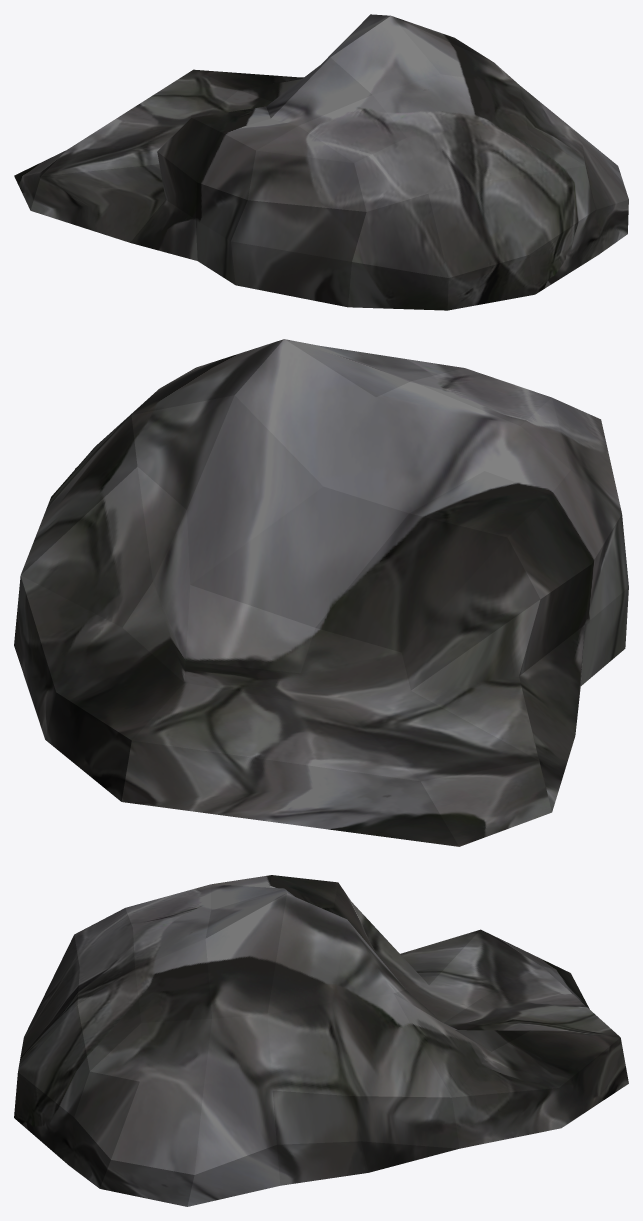
File: fanasty_mod_med_stone.fbx
The picture shows the model from 3 angles, top to bottom: view 1: azimuth 30°, elevation 25°; view 2: azimuth 150°, elevation 25°; view 3: azimuth 270°, elevation 25°; orthographic projection. The views are drawn at different scales.
Visible parts, largest first — view 1: med_stone; view 2: med_stone; view 3: med_stone.
Part boxes in pixels (left/top/right/bottom): med_stone: left=14, top=14, right=628, bottom=310; med_stone: left=14, top=339, right=628, bottom=846; med_stone: left=14, top=875, right=628, bottom=1206.
Bounding box in the file's own units: 2.62 × 1.06 × 2.76.
